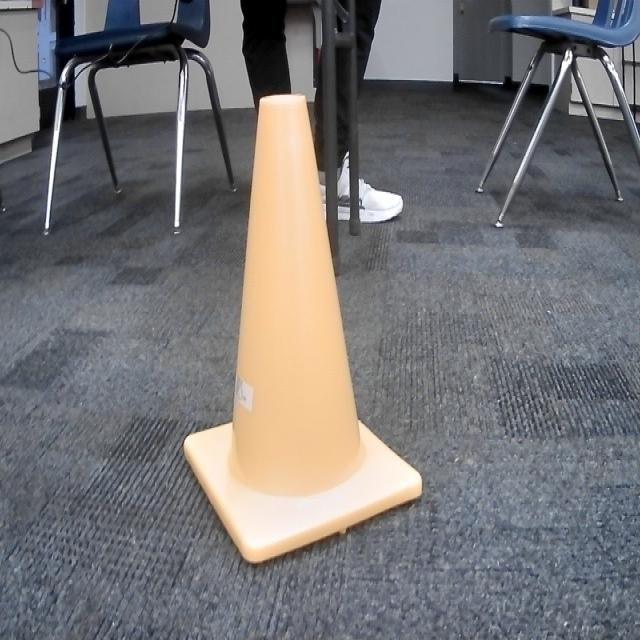cone: (182, 93, 425, 561)
